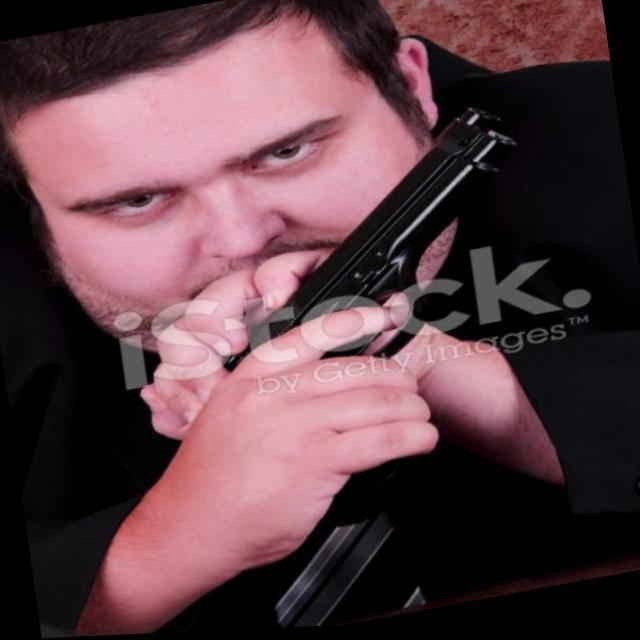weapon: (190, 101, 545, 396)
